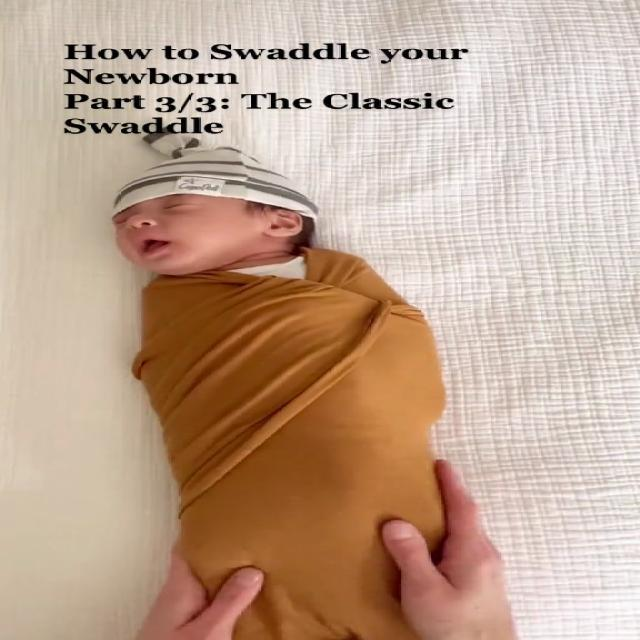baby: (87, 138, 531, 640)
